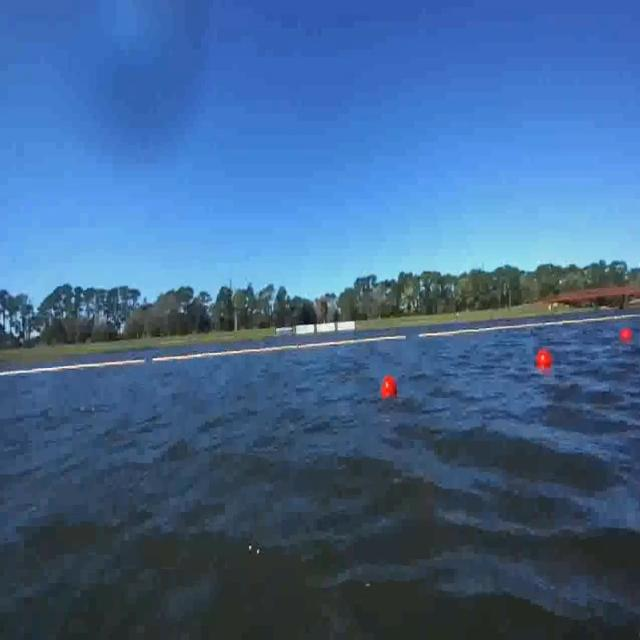red-buoy: (535, 348, 552, 371), (379, 373, 395, 397), (621, 328, 633, 340)
